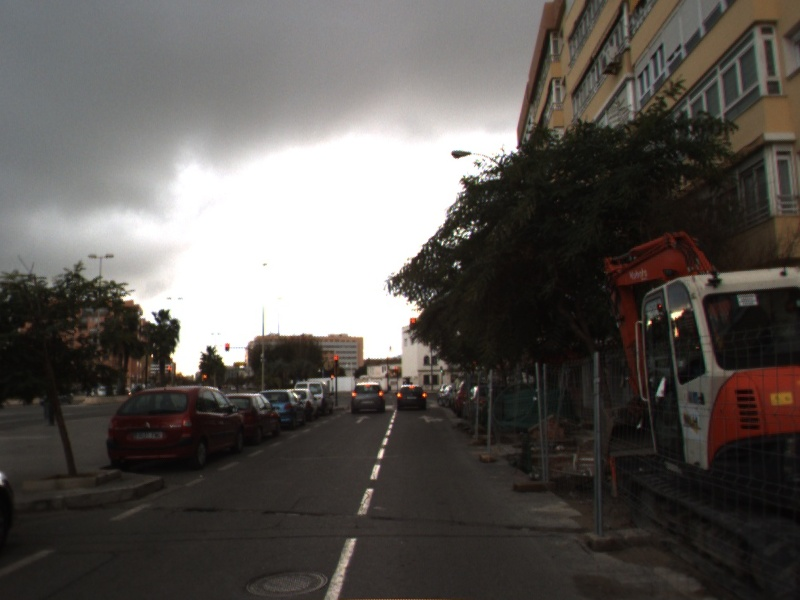STRAIGHT: (353, 414, 373, 425)
STRAIGHT_RIGHT: (417, 413, 448, 425)
